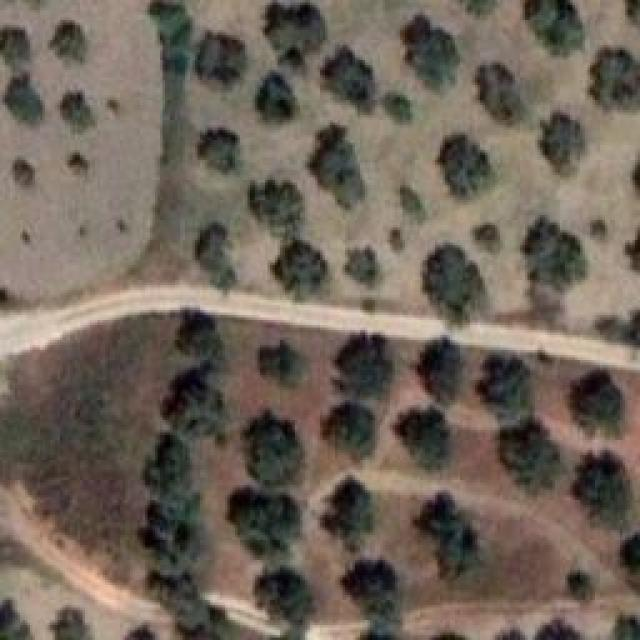Tree: (415, 488, 482, 587), (421, 245, 488, 335), (148, 372, 222, 439), (385, 393, 450, 469), (193, 223, 256, 299), (230, 488, 298, 557), (240, 410, 306, 481), (395, 12, 461, 81), (523, 218, 585, 290), (145, 443, 205, 517), (478, 355, 535, 432), (475, 58, 537, 127), (570, 445, 628, 518), (308, 134, 378, 194), (494, 428, 554, 498), (582, 40, 640, 111), (143, 520, 206, 585), (257, 3, 323, 65), (435, 130, 493, 199), (570, 368, 626, 438), (334, 332, 394, 397), (538, 103, 590, 176), (345, 555, 403, 617), (528, 0, 584, 62), (258, 568, 314, 630), (320, 403, 381, 457), (195, 35, 249, 95), (413, 337, 462, 403), (170, 315, 228, 370), (270, 245, 326, 299), (323, 480, 371, 543), (248, 173, 302, 227), (328, 53, 381, 108), (245, 73, 301, 125), (150, 575, 206, 625), (5, 78, 50, 130), (147, 3, 190, 57), (180, 607, 252, 639), (258, 343, 303, 389), (55, 90, 103, 132), (47, 18, 90, 62), (392, 183, 430, 231), (200, 127, 240, 171), (0, 18, 31, 73), (613, 525, 640, 583), (345, 237, 378, 281), (47, 607, 90, 640), (63, 142, 94, 183), (468, 220, 502, 257), (5, 155, 37, 194), (375, 95, 412, 126), (0, 600, 28, 640), (350, 620, 400, 640), (605, 610, 638, 640), (568, 570, 600, 596), (123, 623, 152, 640), (425, 630, 473, 640), (540, 625, 570, 640), (495, 627, 520, 640)
